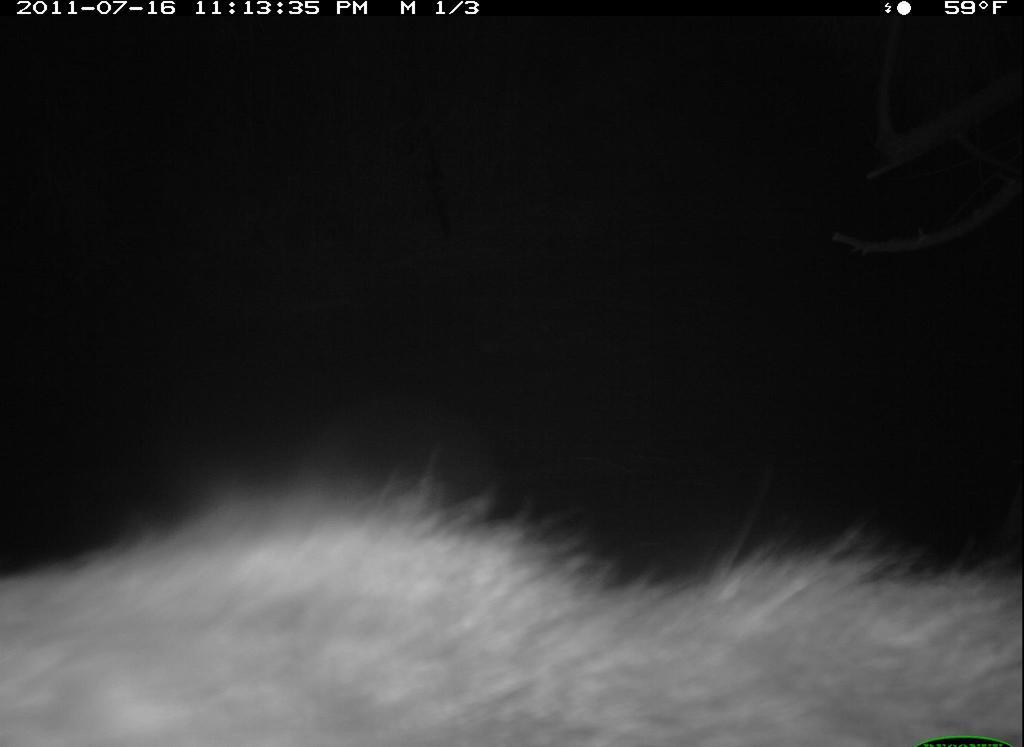raccoon: (1, 422, 1021, 745)
